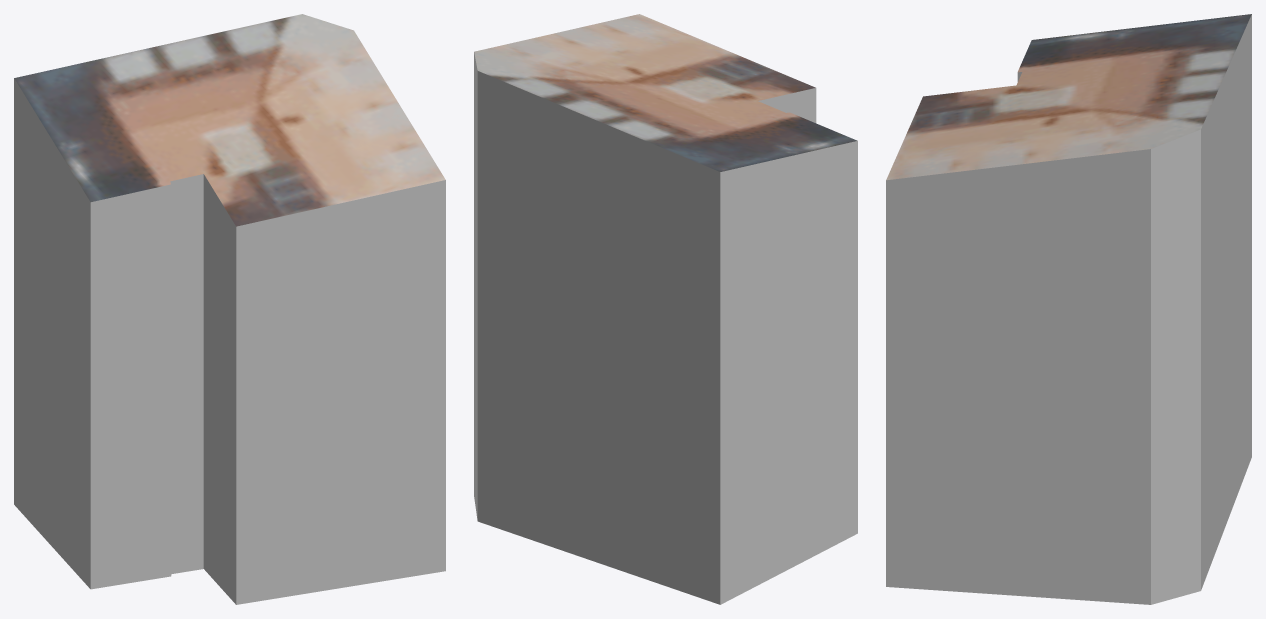
File: DEBW_0010007TxbJ.gltf
The picture shows the model from 3 angles, left to right: view 1: azimuth 30°, elevation 25°; view 2: azimuth 150°, elevation 25°; view 3: azimuth 270°, elevation 25°; orthographic projection. The views are drawn at different scales.
Visible parts, largest first — view 1: Z_UP; view 2: Z_UP; view 3: Z_UP.
Boxes of the visible parts, x1=… form: Z_UP: x1=14, y1=14, x2=445, y2=604; Z_UP: x1=474, y1=14, x2=857, y2=604; Z_UP: x1=886, y1=14, x2=1251, y2=604.
Size of the model in its own units: 17.39 by 23.02 by 16.53.
2 materials, 1 textured.
